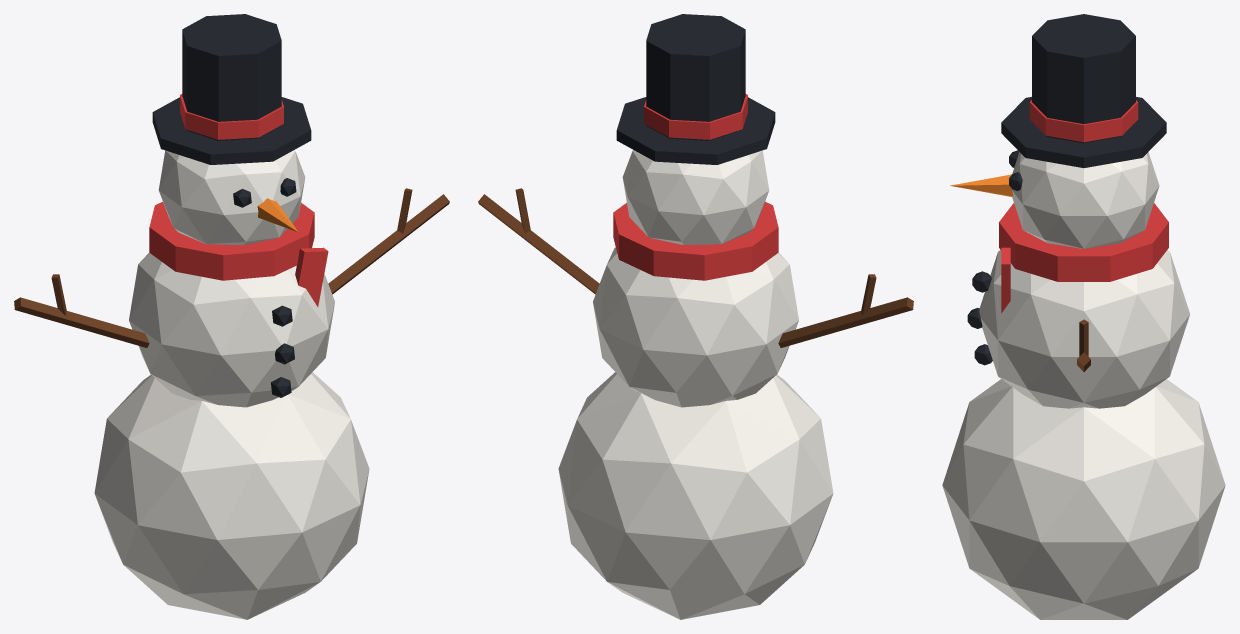
The model's file is Snowman.fbx.
3 renders of one model, left to right at view 1: azimuth 30°, elevation 25°; view 2: azimuth 150°, elevation 25°; view 3: azimuth 270°, elevation 25°, orthographic.
Visible parts, largest first — view 1: Snowman; view 2: Snowman; view 3: Snowman.
Boxes of the visible parts, x1,y1,x2,y2 form: Snowman: (14, 14, 449, 619); Snowman: (478, 14, 913, 619); Snowman: (942, 14, 1225, 619).
Bounding box in the file's own units: 6.42 × 8.1 × 3.6.
Materials: 1 (1 with a texture image).
